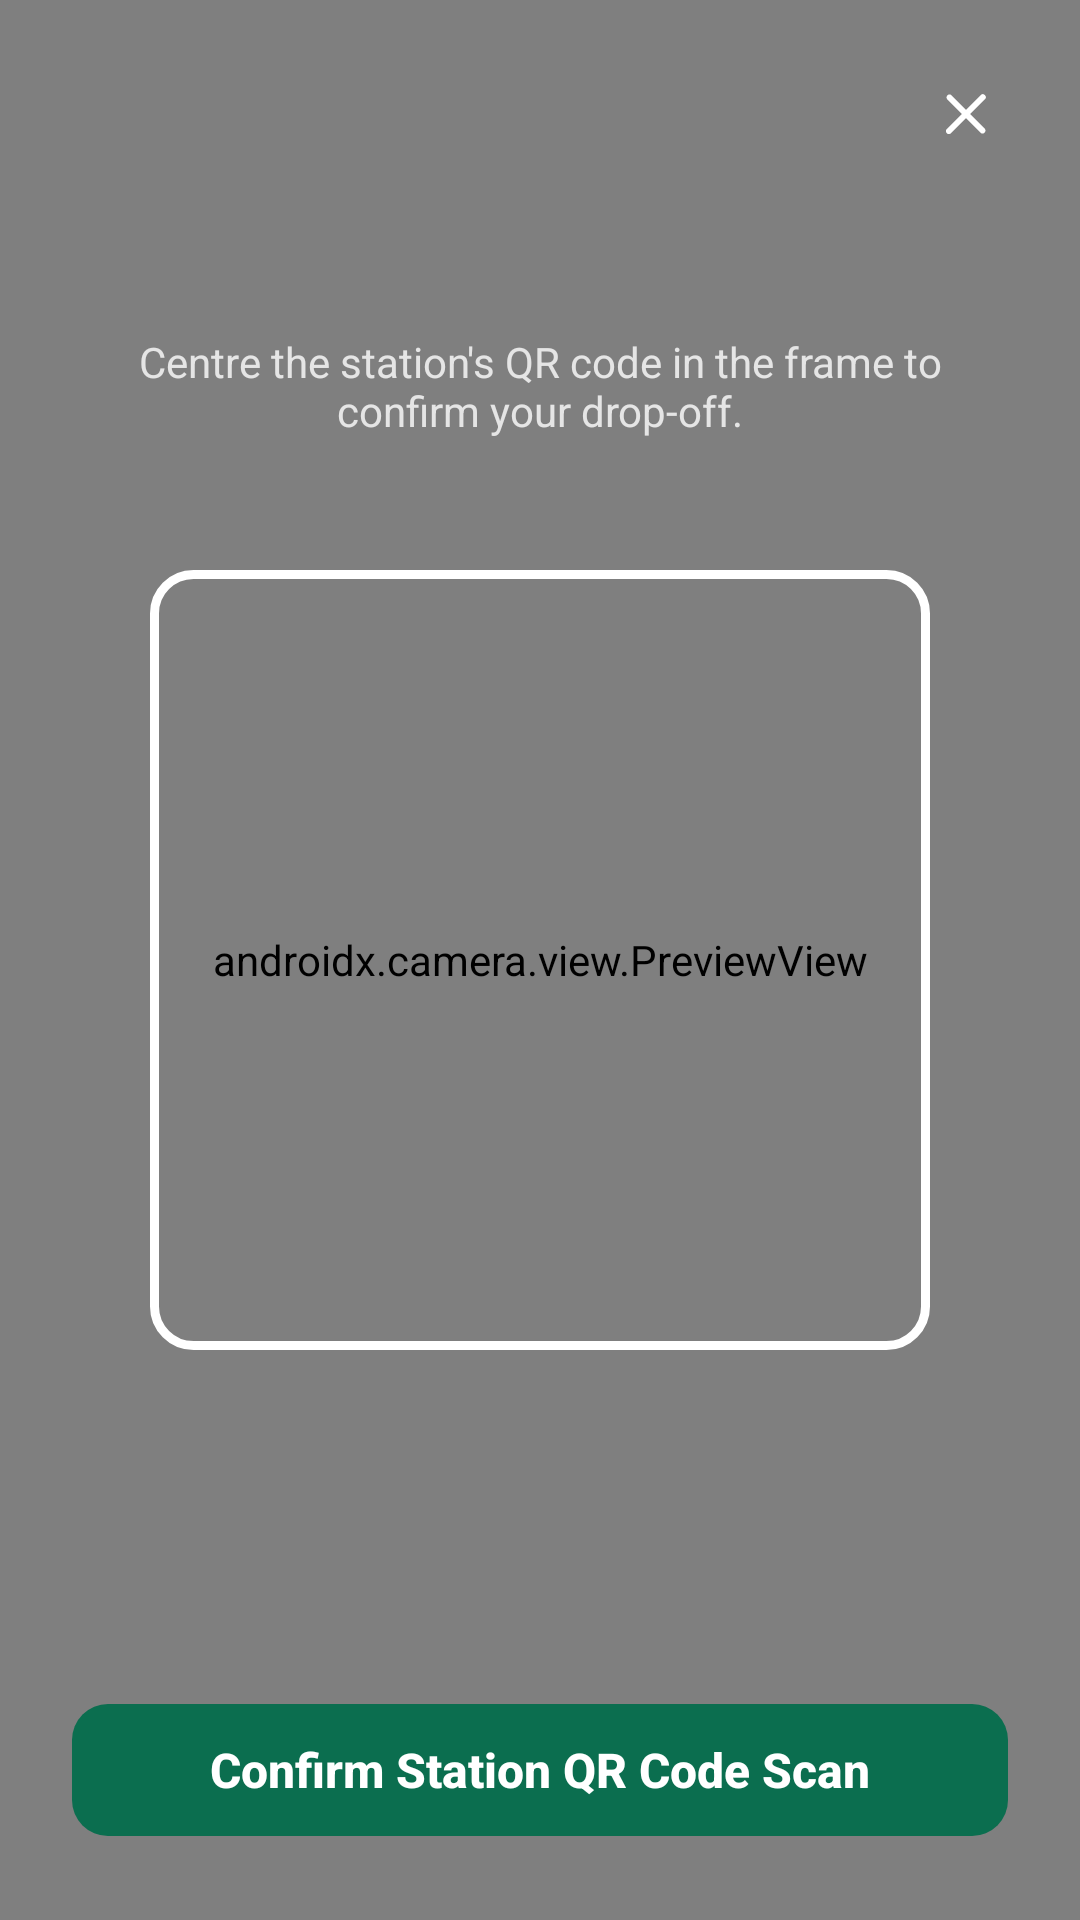

Where to tap for icons on this 1080×1920 app screen, as (x=x, y=y):
Close: (x=966, y=114)
